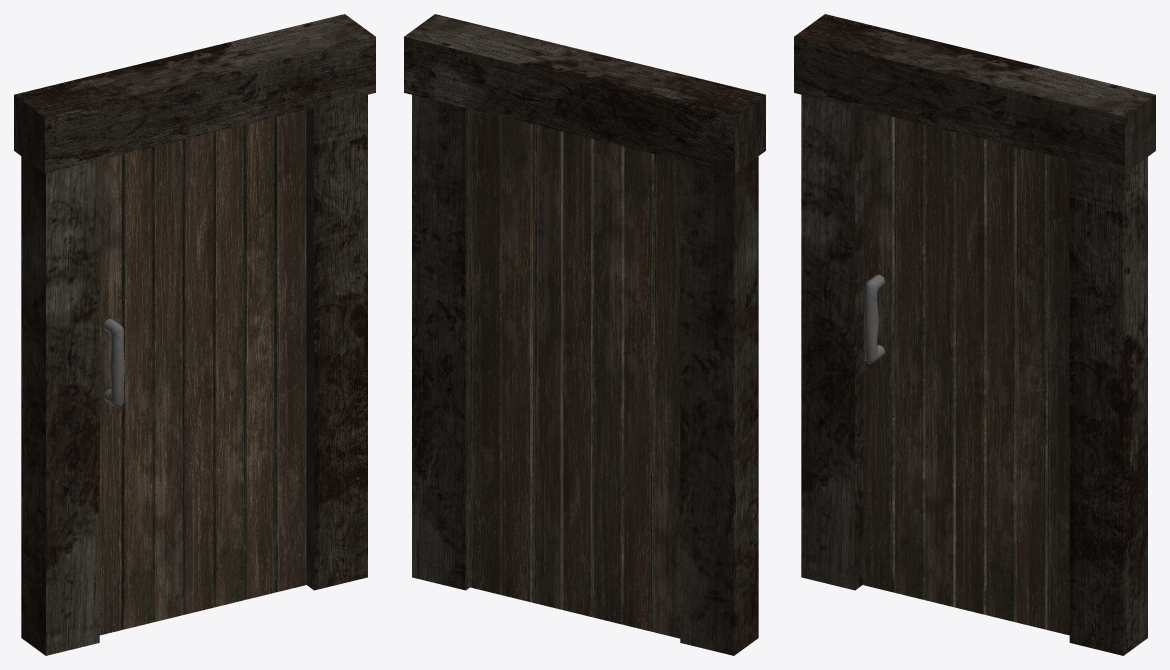
Rendered from DoorFramed2.fbx.
The picture shows the model from 3 angles, left to right: view 1: azimuth 30°, elevation 25°; view 2: azimuth 150°, elevation 25°; view 3: azimuth 330°, elevation 25°; orthographic projection.
Parts seen in each view (by area): view 1: Regular Door Framed.019; view 2: Regular Door Framed.019; view 3: Regular Door Framed.019.
Part boxes in pixels (x1,y1,x2,y2): Regular Door Framed.019: [14, 14, 375, 655]; Regular Door Framed.019: [404, 14, 765, 655]; Regular Door Framed.019: [794, 14, 1155, 655].
Bounding box in the file's own units: 139 × 217 × 23.69.
